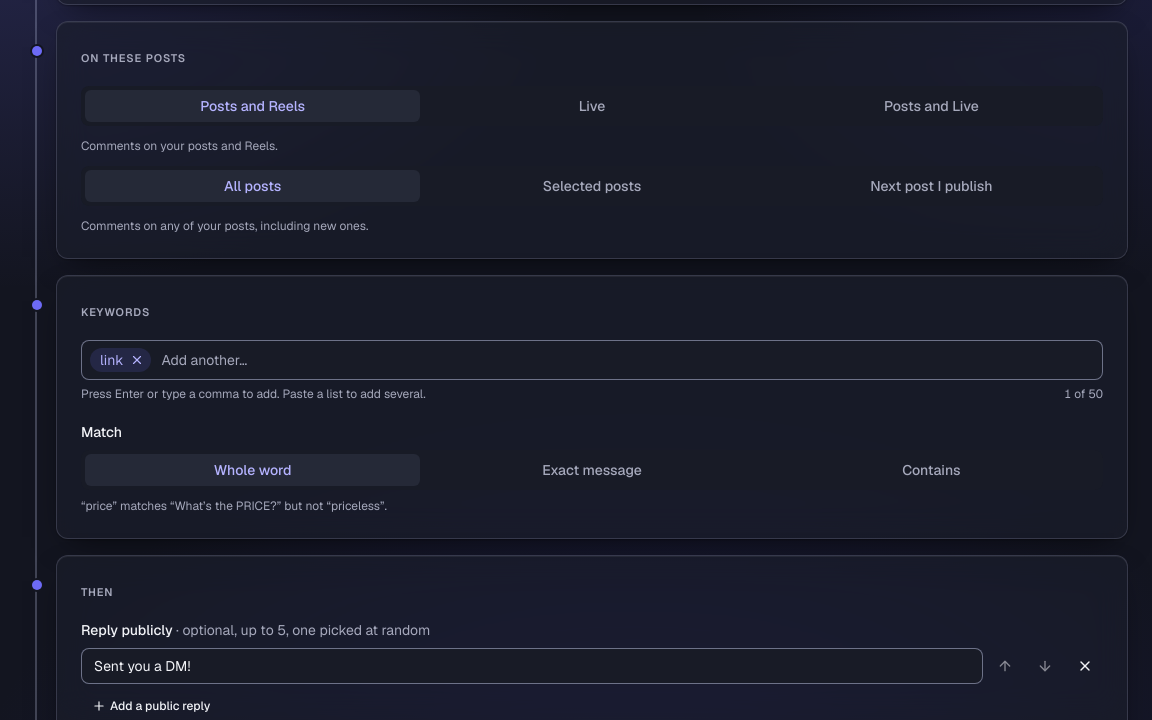
Test: AutomationEditor activation (FR-AUT-02) › saves pending edits before activating
(page scrolled)
In the field named "Add a keyword": (626, 360) [157,346,1094,374], type "price"
Then press Enter
(page scrolled)
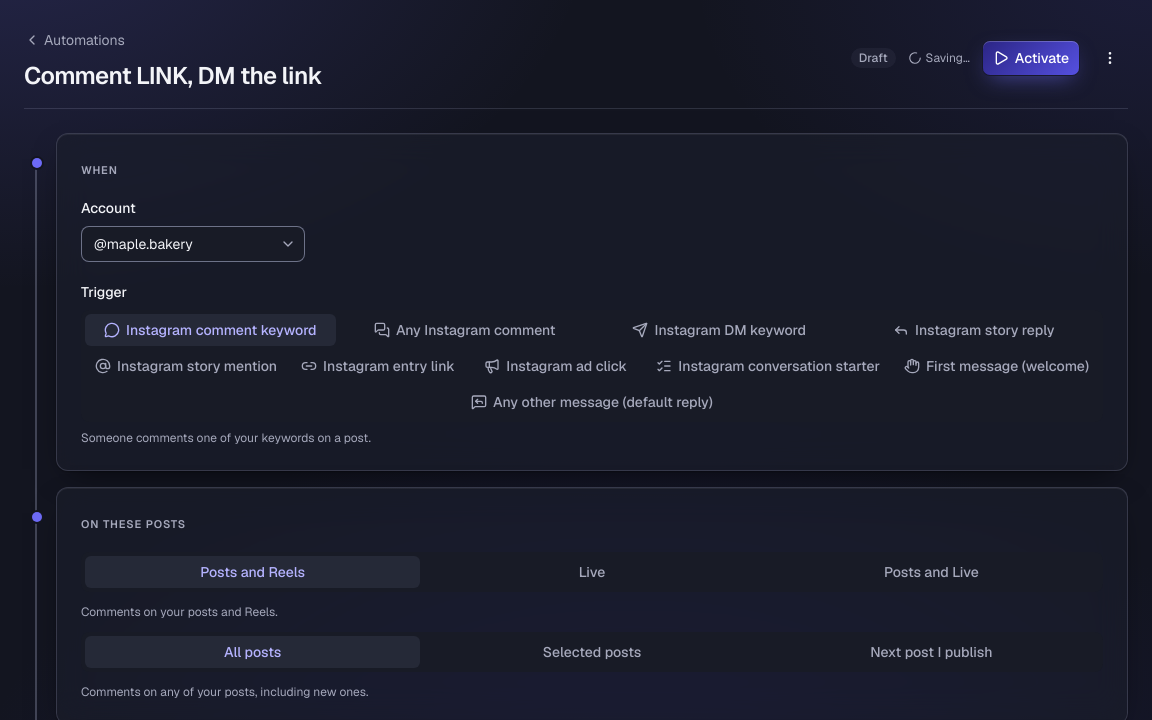
Click the button "Activate": (1031, 58) [982,40,1080,76]
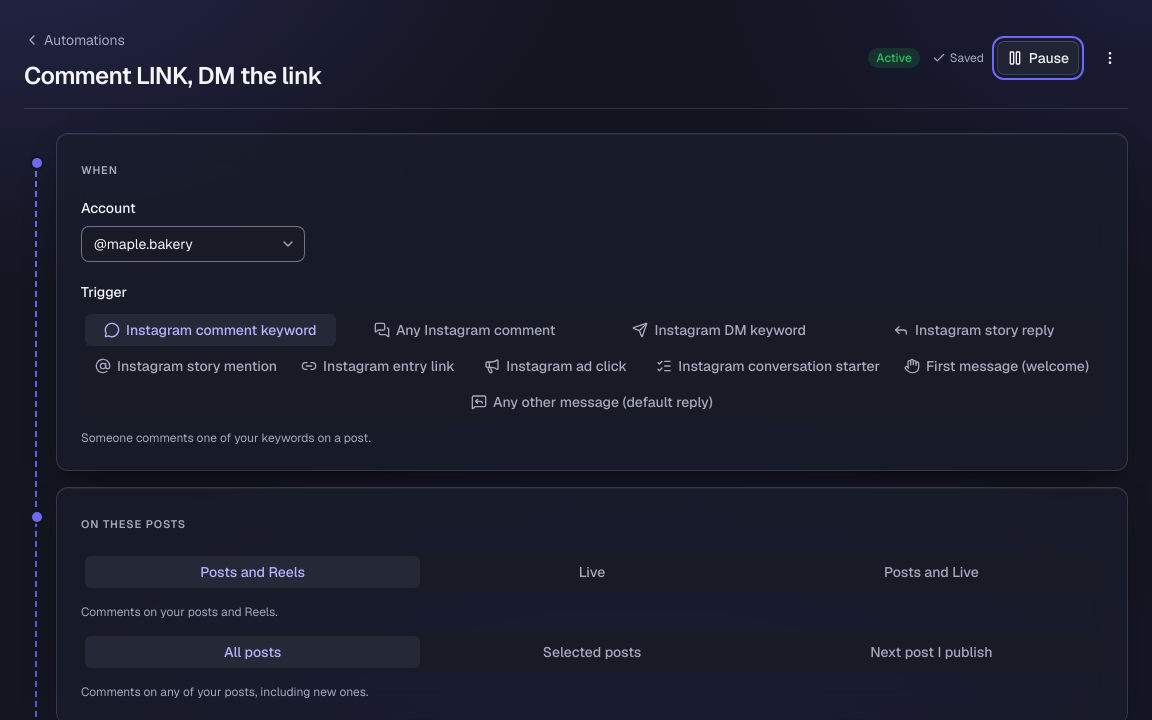
Check: the text with test id "status-pill" reads "Active", box [876,50,912,66]
